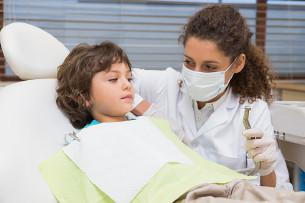NONE: (94, 69, 137, 113)
OK: (180, 48, 233, 101)
